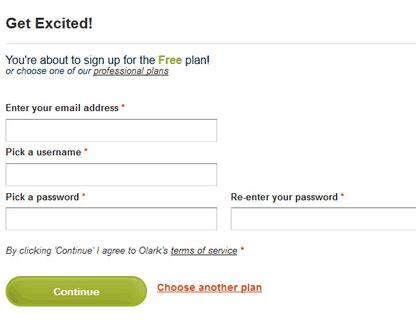button: (6, 276, 147, 307)
field: (4, 205, 218, 231), (5, 117, 218, 143), (5, 162, 218, 186)
field_with_label: (3, 101, 220, 145), (1, 191, 219, 232), (3, 148, 219, 188)
